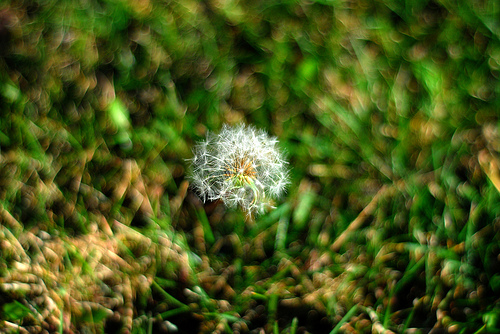dandelion white: (183, 122, 294, 219)
